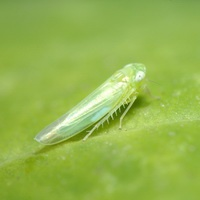insect: (35, 63, 145, 144)
